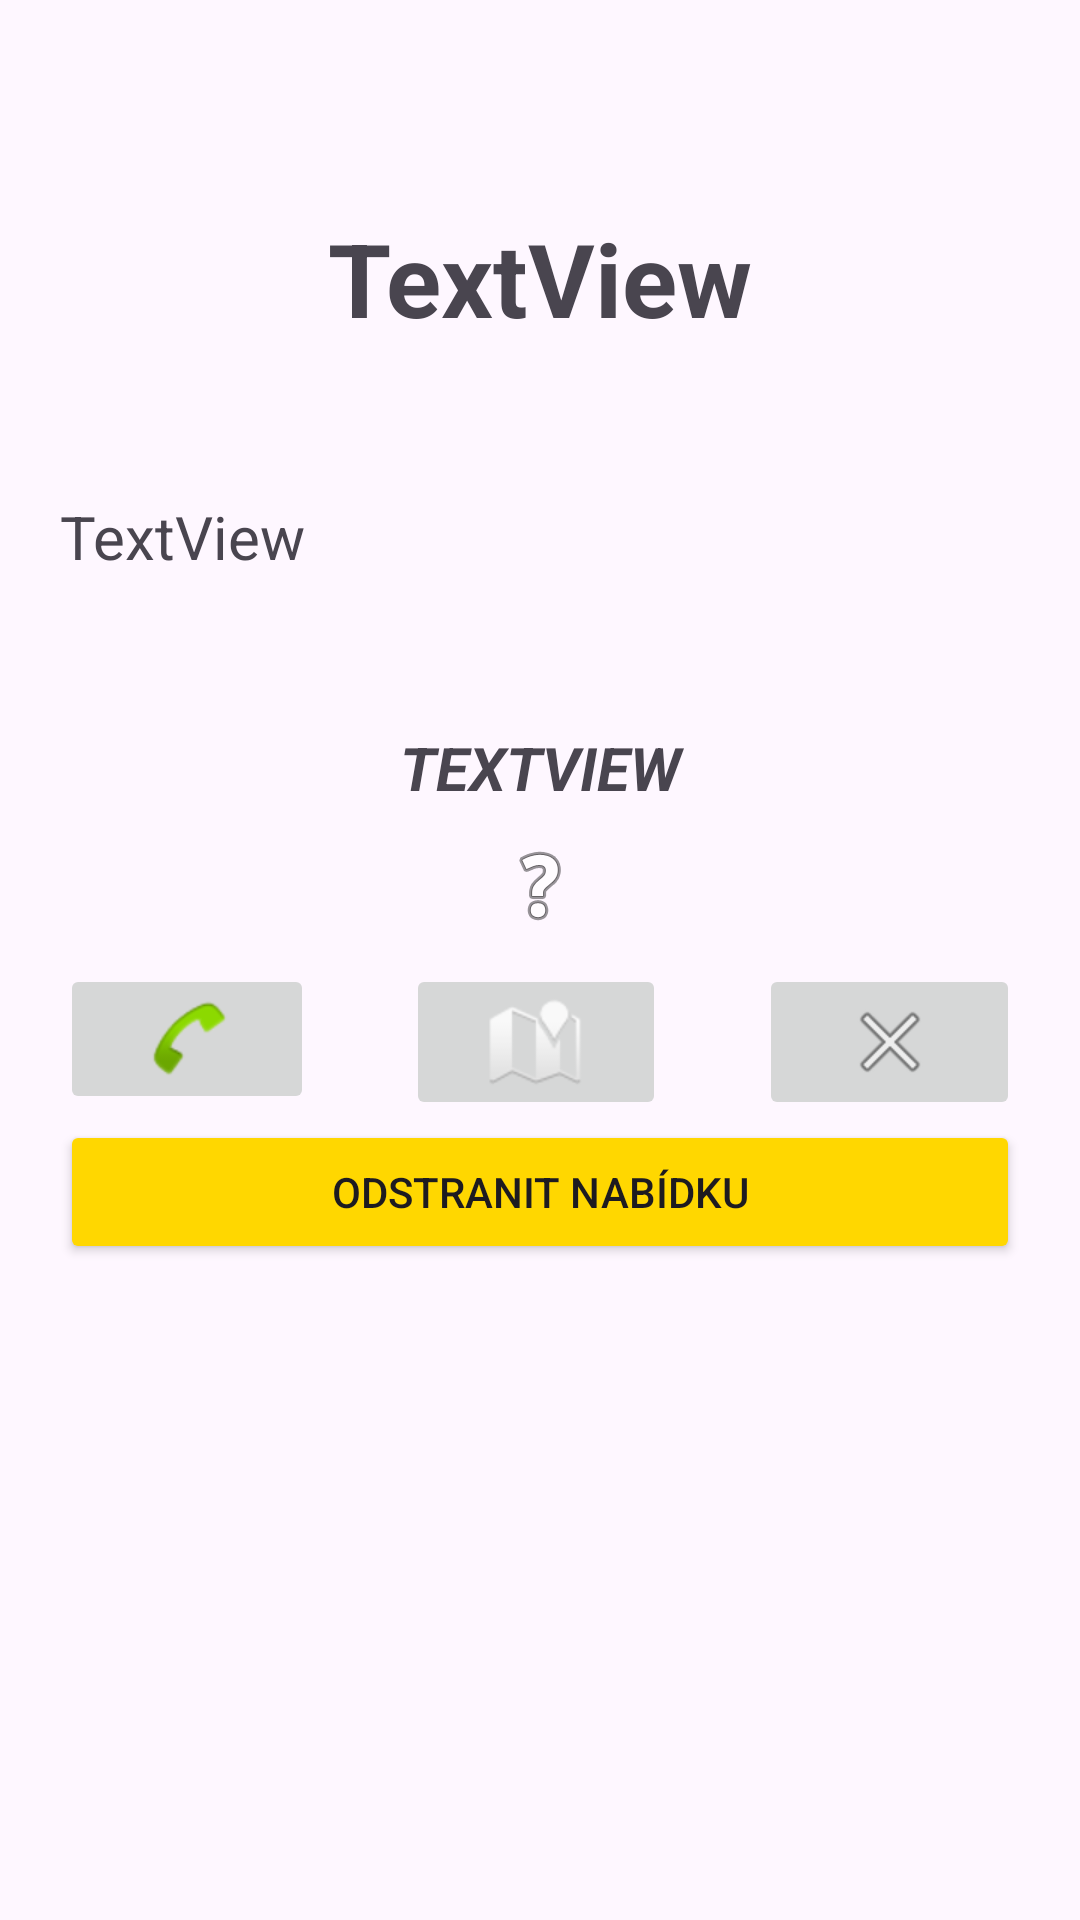

Icon bounding boxes for this 1080*1920 phone screenshot, format (x1, y1, x2, y2):
call: (72, 982, 302, 1096)
help: (519, 852, 561, 920)
map: (418, 982, 654, 1102)
